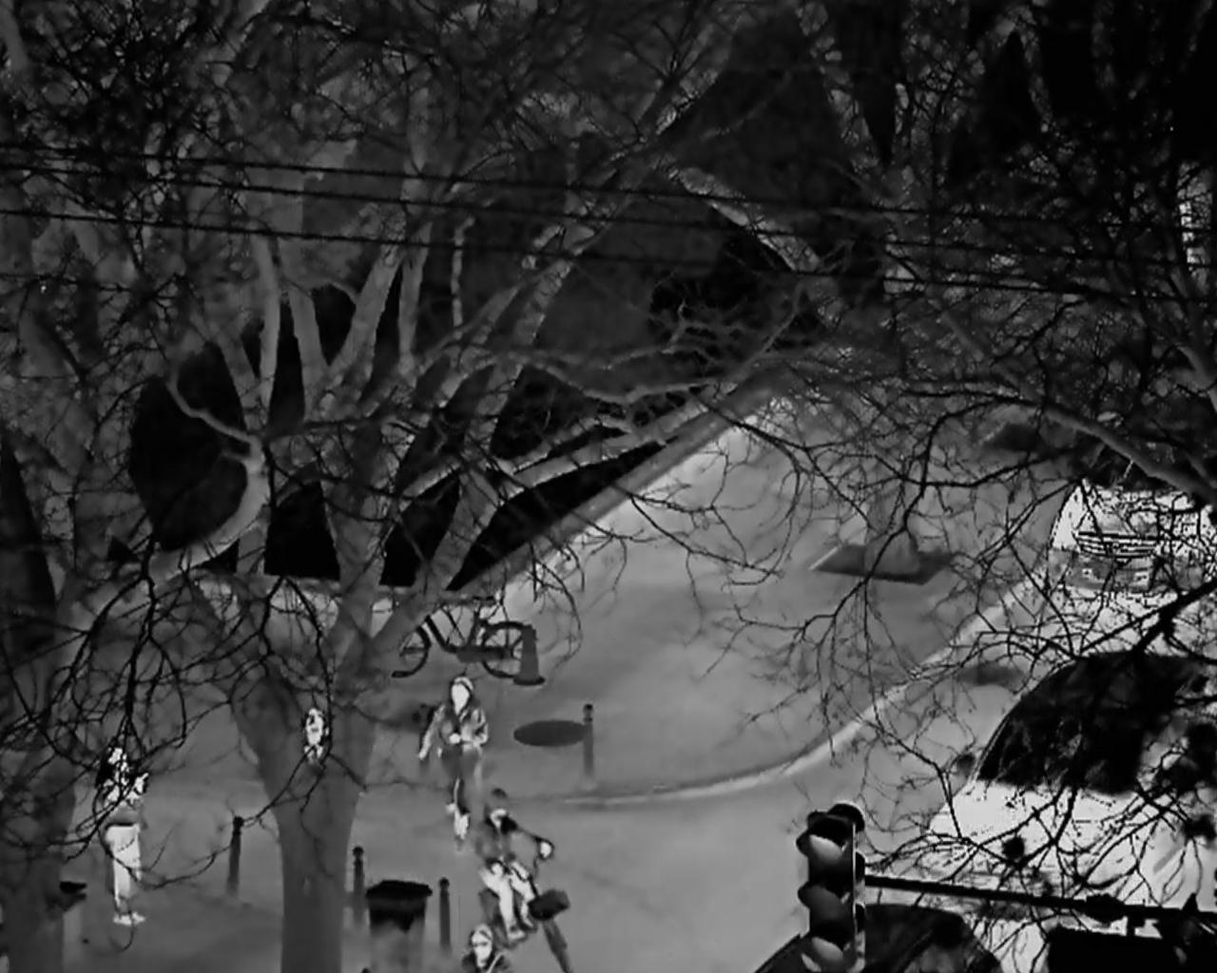person: (415, 674, 488, 856), (476, 785, 554, 943), (99, 747, 150, 925)
